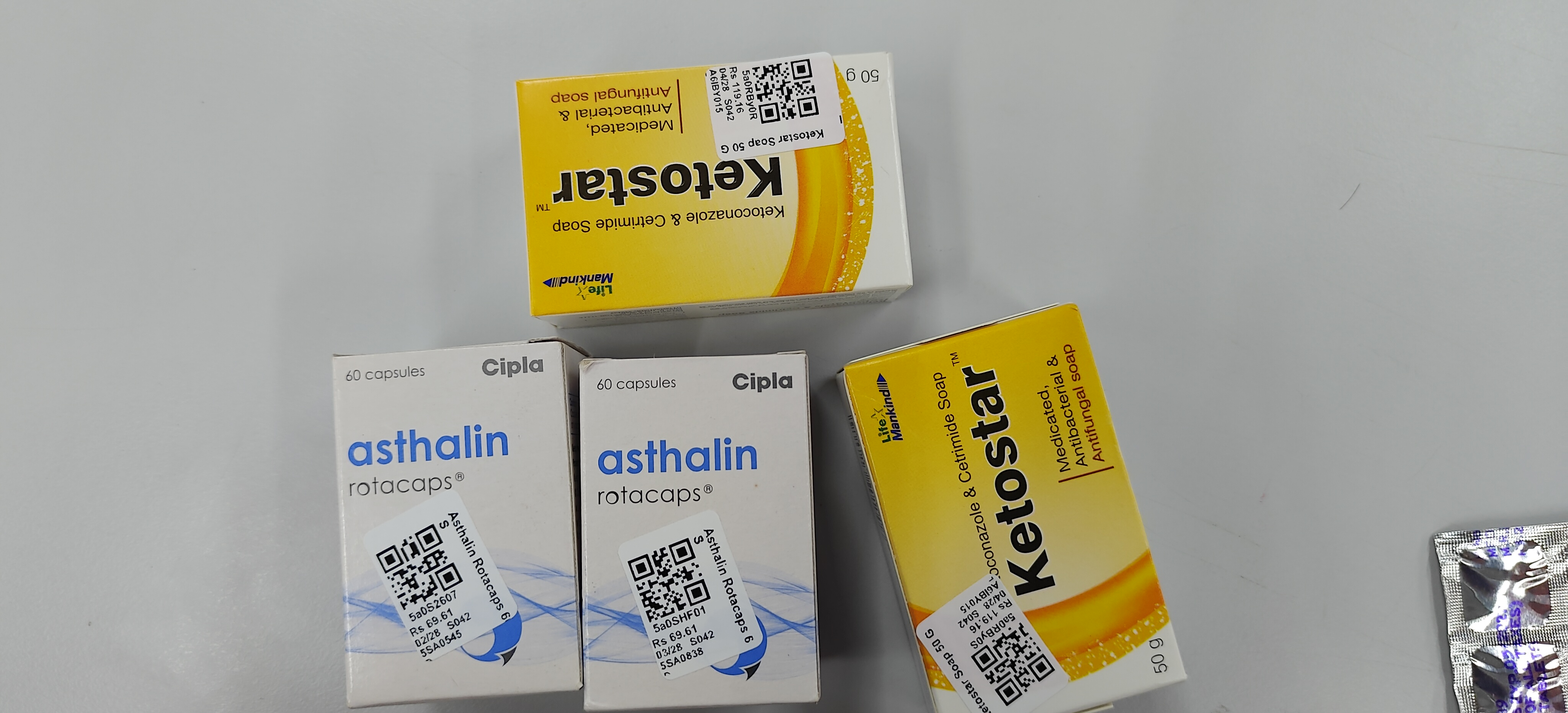qr_code: (374, 523, 463, 612), (970, 620, 1055, 706), (627, 537, 710, 622)
